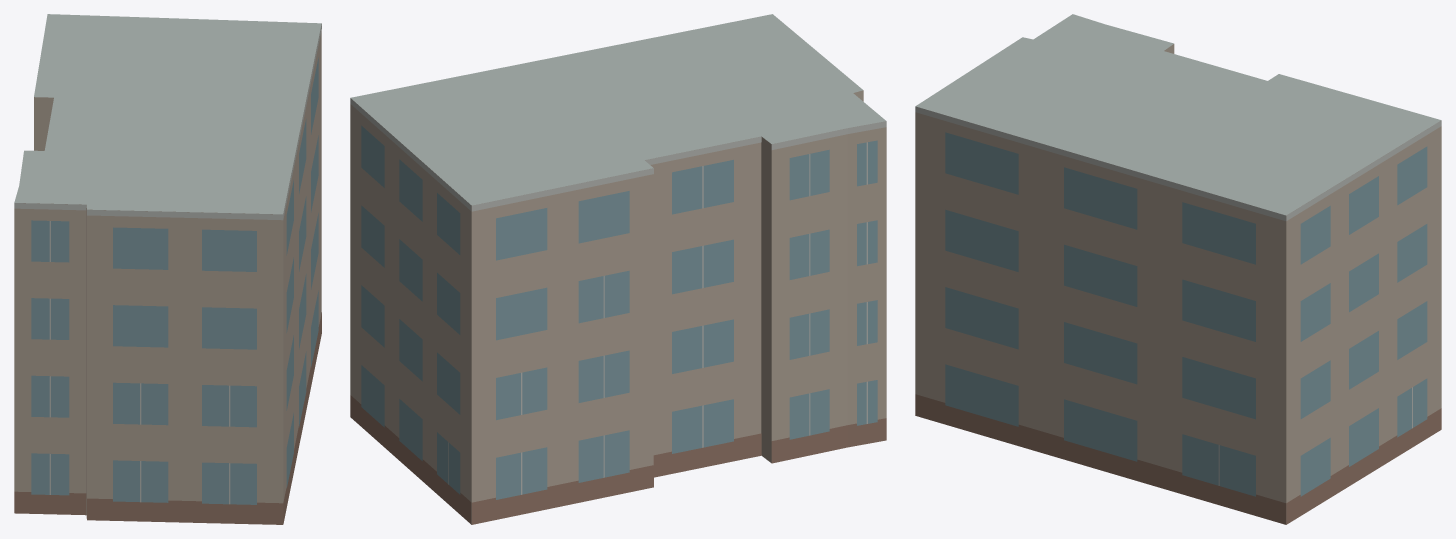
File: survey-upis-32746469.glb
3 renders of one model, left to right at view 1: azimuth 30°, elevation 25°; view 2: azimuth 150°, elevation 25°; view 3: azimuth 270°, elevation 25°, orthographic. The views are drawn at different scales.
Visible parts, largest first — view 1: survey-upis-32746469.tmp; view 2: survey-upis-32746469.tmp; view 3: survey-upis-32746469.tmp.
Part boxes in pixels (x1,y1,x2,y2): survey-upis-32746469.tmp: [14, 14, 321, 524]; survey-upis-32746469.tmp: [350, 14, 886, 524]; survey-upis-32746469.tmp: [915, 14, 1441, 524].
Bounding box in the file's own units: 18.17 × 13 × 20.06.
